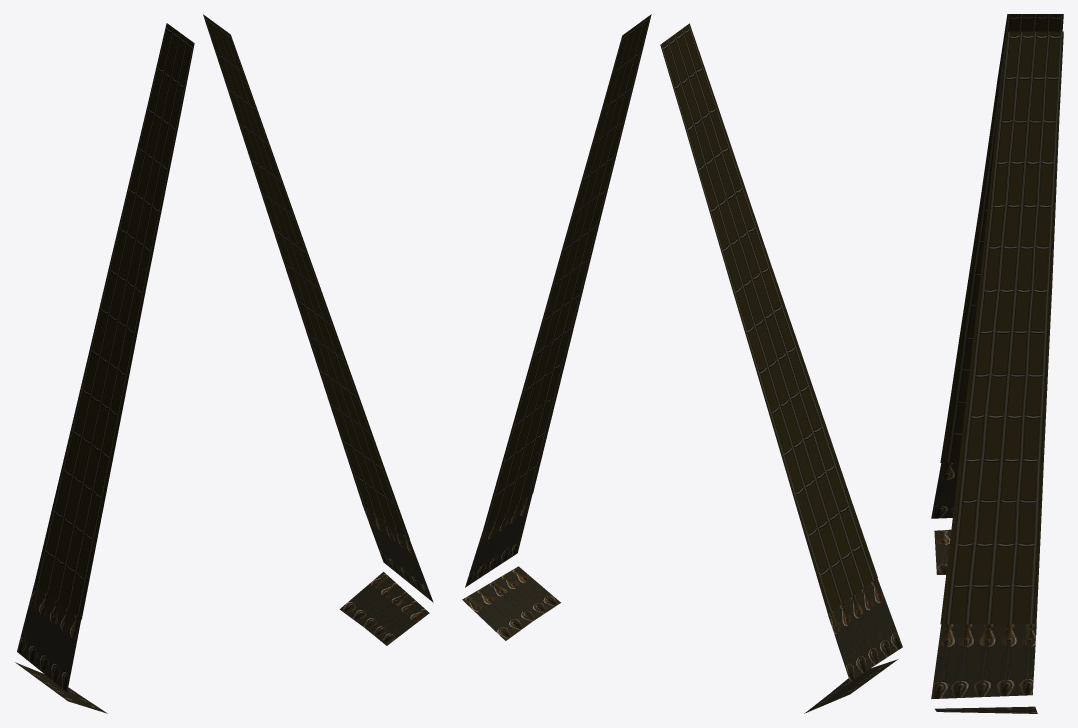
Rendered from merchantL1-rigging_0.fbx.
The picture shows the model from 3 angles, left to right: view 1: azimuth 30°, elevation 25°; view 2: azimuth 150°, elevation 25°; view 3: azimuth 270°, elevation 25°; orthographic projection. The views are drawn at different scales.
Parts seen in each view (by area): view 1: rigging, rigging_1b, pullys_2, riggingmount_pulleys1, pullys_3, riggingmount_pulleys2; view 2: rigging, rigging_1b, pullys_2, riggingmount_pulleys1, pullys_3, riggingmount_pulleys2; view 3: rigging_1b, pullys_3, rigging, pullys_2, riggingmount_pulleys2, riggingmount_pulleys1.
Boxes of the visible parts, box(x1,y1,x2,y2) form: rigging: box(34, 23, 194, 619); rigging_1b: box(203, 14, 409, 538); pullys_2: box(17, 585, 81, 691); riggingmount_pulleys1: box(339, 572, 429, 645); pullys_3: box(362, 505, 433, 602); riggingmount_pulleys2: box(15, 662, 107, 713); rigging: box(660, 23, 877, 613); rigging_1b: box(483, 14, 651, 529); pullys_2: box(828, 578, 902, 681); riggingmount_pulleys1: box(462, 566, 560, 640); pullys_3: box(465, 494, 532, 587); riggingmount_pulleys2: box(804, 659, 897, 713); rigging_1b: box(940, 31, 1063, 624); pullys_3: box(931, 624, 1036, 699); rigging: box(940, 14, 1063, 462); pullys_2: box(931, 463, 958, 518); riggingmount_pulleys2: box(934, 529, 951, 574); riggingmount_pulleys1: box(935, 706, 1037, 713).
Size of the model in its own units: 5703 by 9088 by 1759.
Materials: 1 (1 with a texture image).
